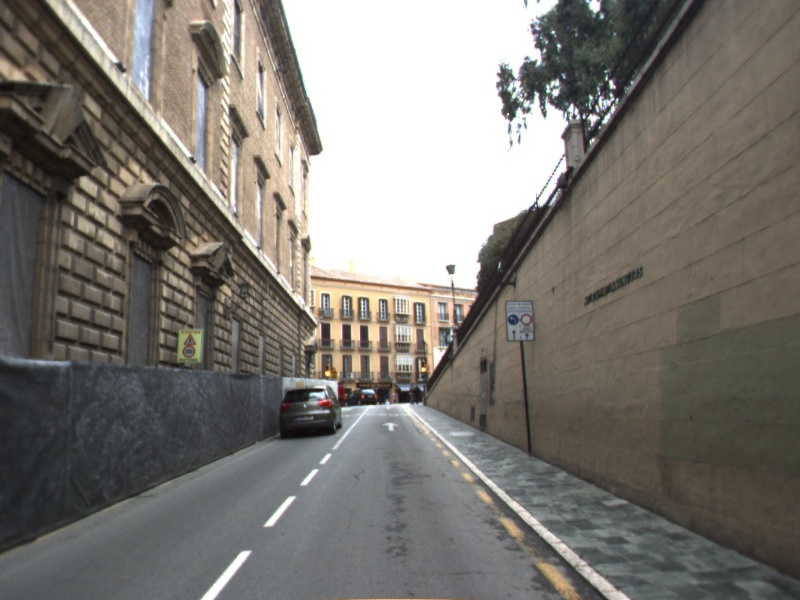STRAIGHT: (381, 420, 401, 433)
